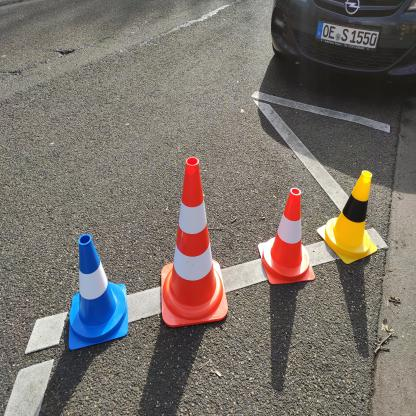Cones_big: (153, 153, 234, 338)
Cones_small_blue: (53, 228, 132, 354)
Cones_small_orange: (258, 184, 324, 291)
Cones_small_yellow: (318, 168, 390, 283)
